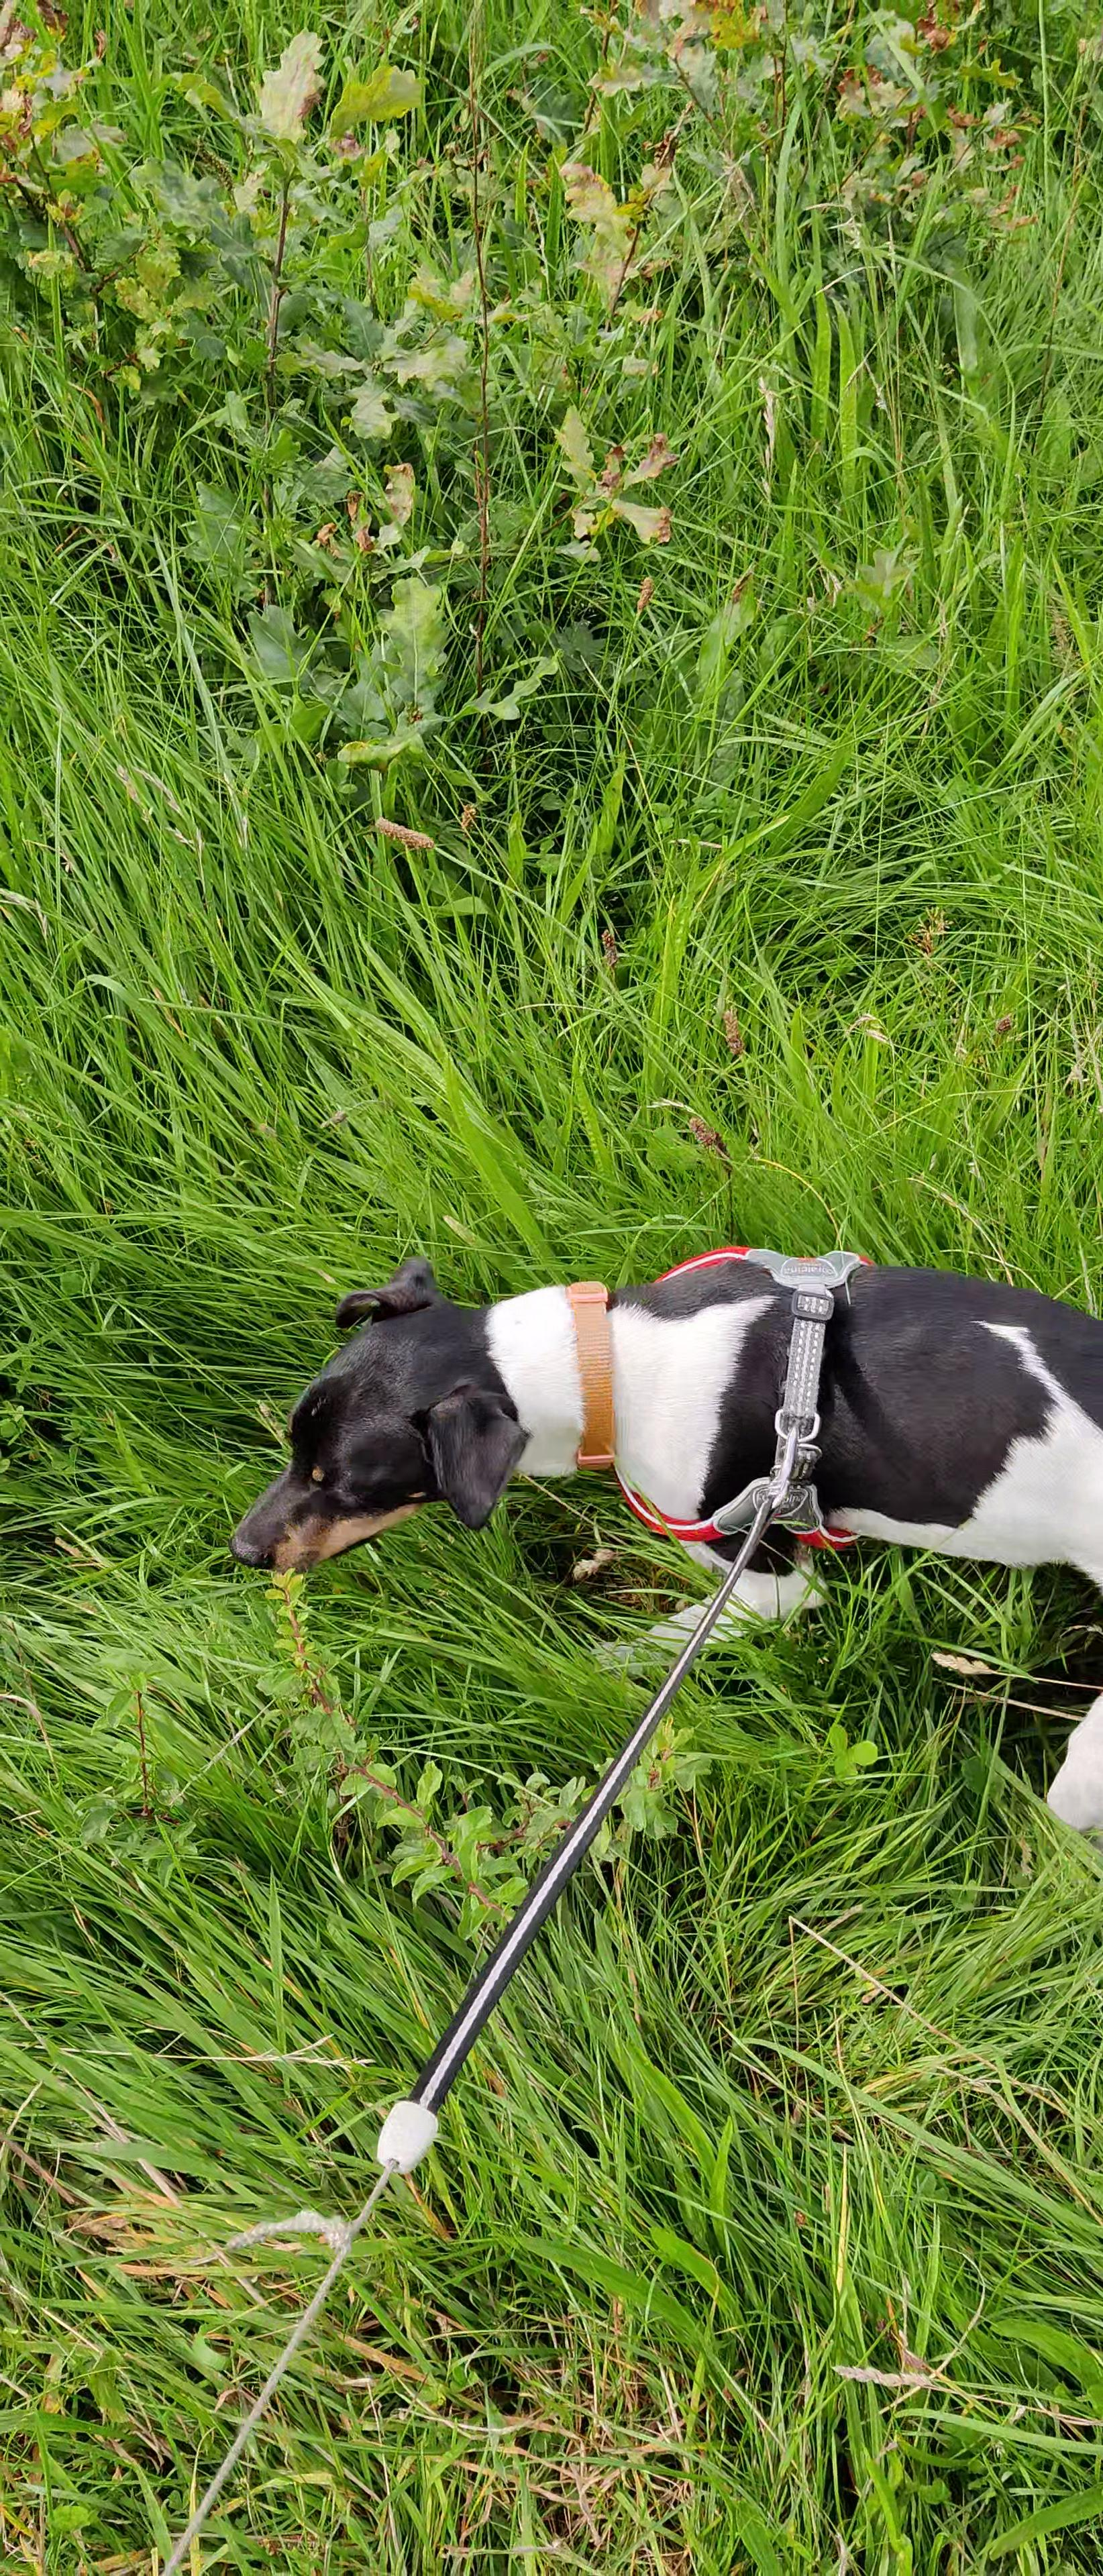Dog: (201, 1209, 1103, 1851)
